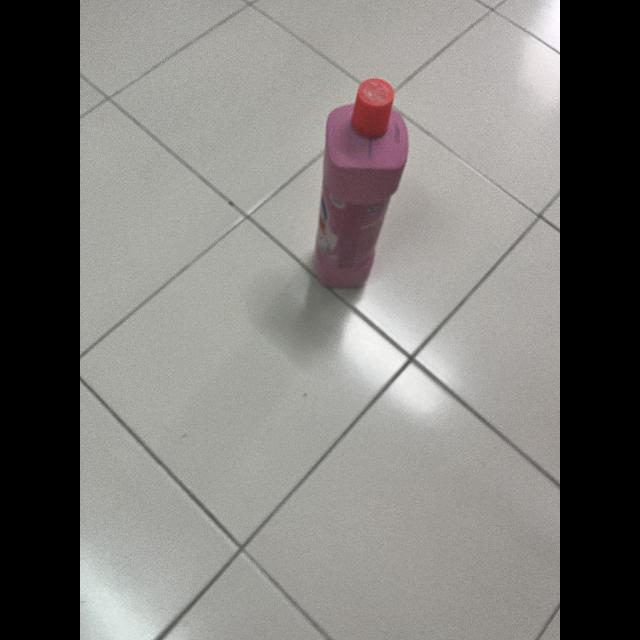chemical_plastic_bottle: (302, 72, 416, 294)
